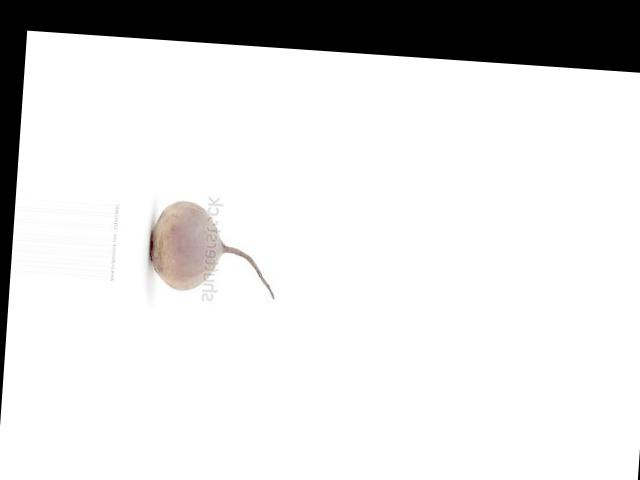beet: (146, 197, 281, 298)
